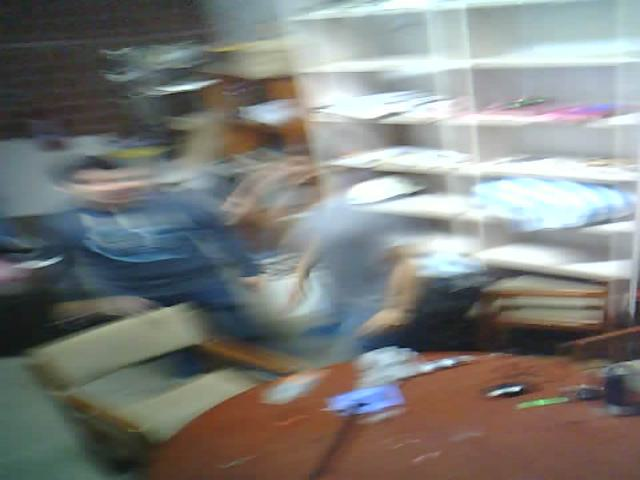person: (32, 121, 275, 375), (283, 128, 434, 387)
